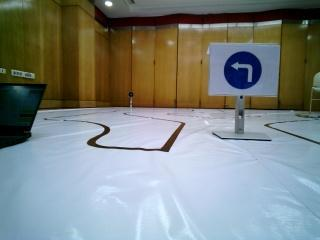left: (212, 38, 277, 93)
